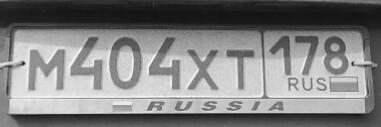license-plateSW: (10, 29, 377, 102)
